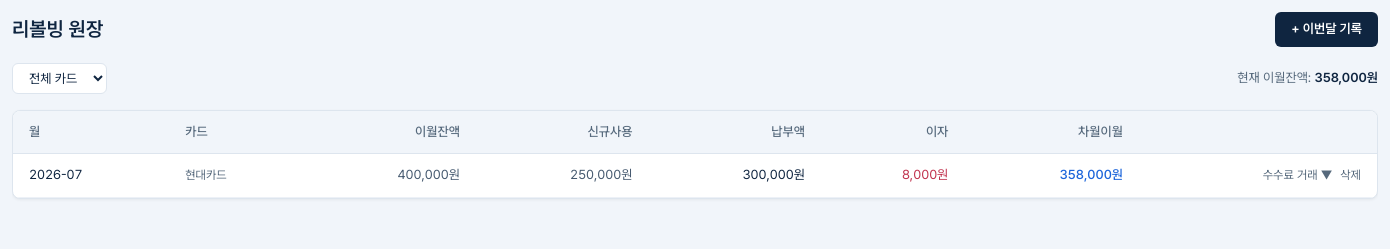
Test: 수수료 거래 펼치기 › 펼치면 그 기록의 파생거래를 부른다
Click the button "수수료 거래 ▼": (1298, 175) [1263,167,1332,183]
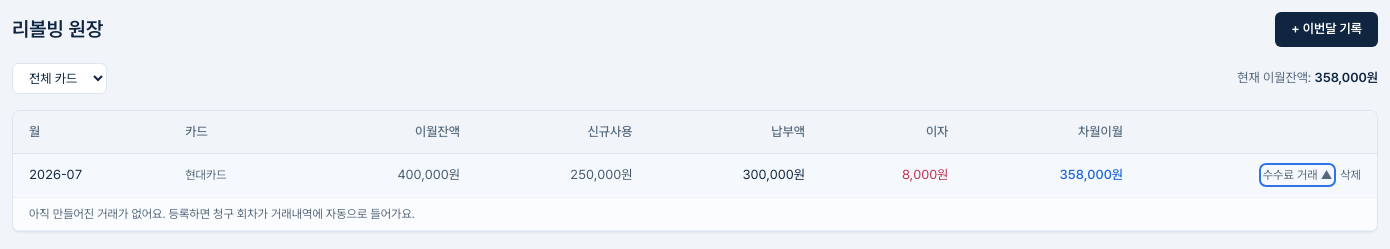
Check: the button "수수료 거래 ▲" is expanded, box [1263,167,1332,183]
